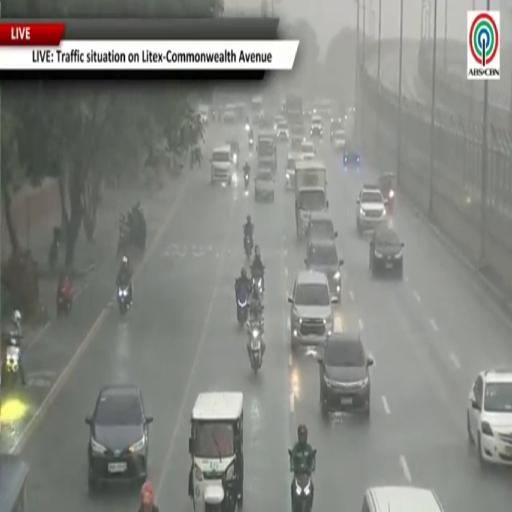bus: (0, 455, 28, 511)
car: (86, 384, 152, 490), (318, 332, 374, 415), (468, 368, 511, 467), (288, 270, 333, 351), (305, 239, 343, 302), (361, 486, 443, 511), (370, 224, 404, 278), (356, 185, 386, 234), (306, 212, 338, 243), (210, 145, 233, 185), (378, 172, 396, 215), (255, 168, 275, 201), (286, 152, 301, 189), (343, 144, 360, 170), (227, 139, 240, 168), (313, 100, 332, 118), (331, 130, 346, 152), (330, 118, 344, 141), (276, 119, 289, 141), (310, 116, 323, 138), (301, 140, 315, 159), (222, 105, 236, 123), (289, 123, 303, 140), (198, 104, 209, 125), (291, 133, 303, 152), (259, 116, 273, 131), (274, 114, 286, 130), (303, 105, 313, 121)
motorcycle: (289, 451, 315, 511), (2, 336, 20, 389), (248, 322, 263, 373), (128, 208, 146, 250), (48, 228, 61, 269), (204, 485, 224, 511), (57, 286, 73, 316), (236, 285, 248, 325), (117, 284, 132, 314), (117, 224, 129, 257), (252, 274, 264, 297), (385, 189, 395, 215), (244, 236, 253, 259), (244, 171, 250, 190), (249, 137, 253, 149)
truck: (295, 160, 328, 237), (257, 131, 276, 171), (286, 93, 303, 134), (251, 96, 263, 125)
